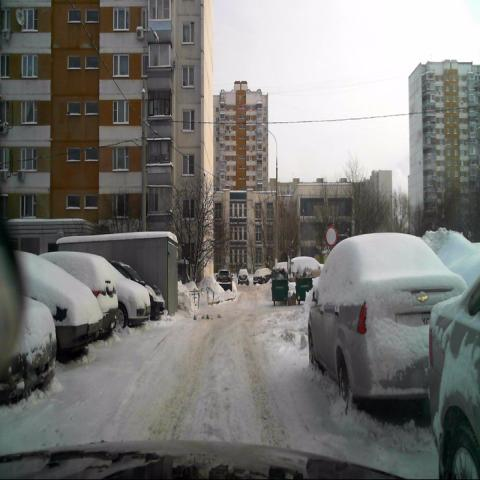3_2: (326, 226, 336, 247)
